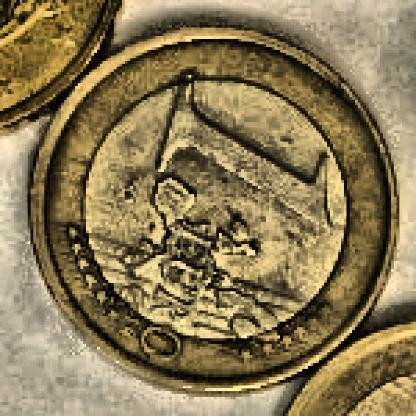coin: (27, 23, 398, 398)
